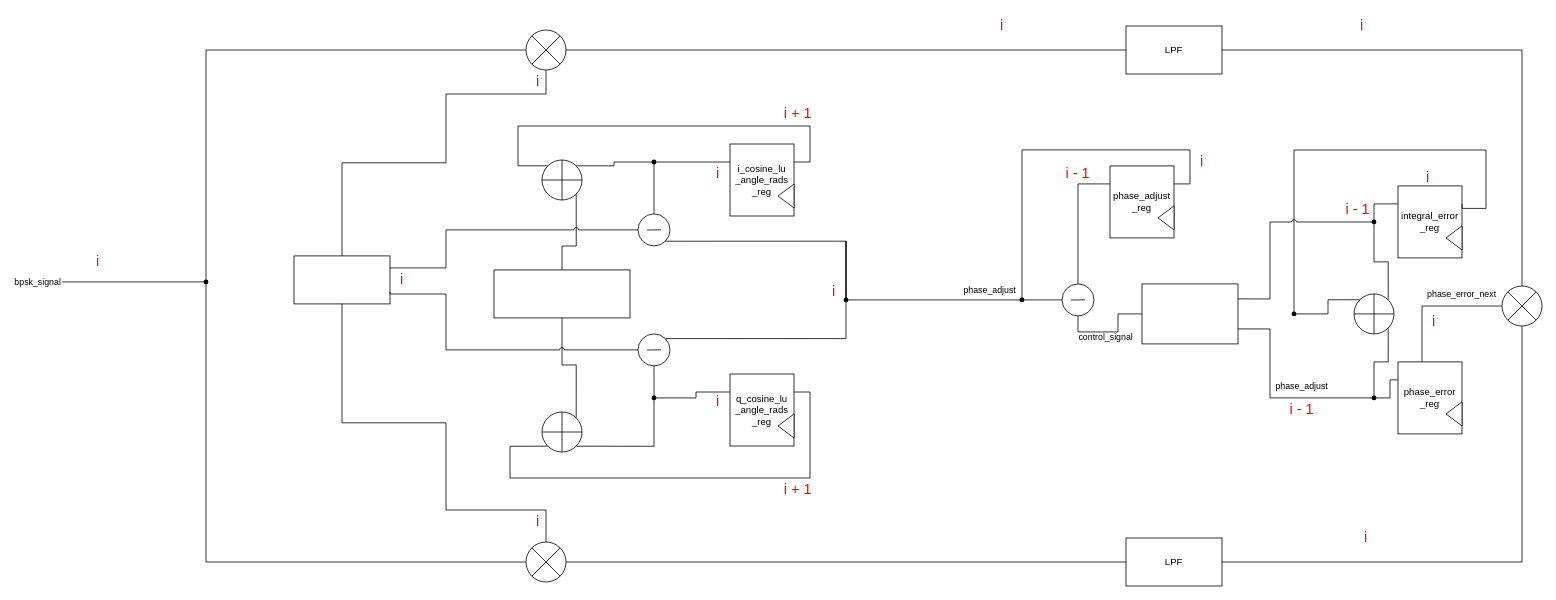
Some shapes in this 1556 by 600 pixel diagram are drawn without their labels. Here are the shapes that lost their labels. From the top down, the centre of each, then its label:
[341,279]: cosine LUT
[561,293]: Constant: Sampling Freq / Carrier Freq
[1189,313]: Ki * integral_error + Kp * phase_error
